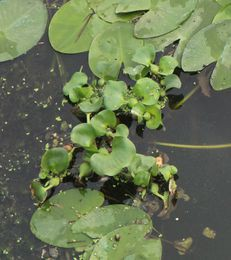water_hyacinth: (29, 48, 189, 213)
